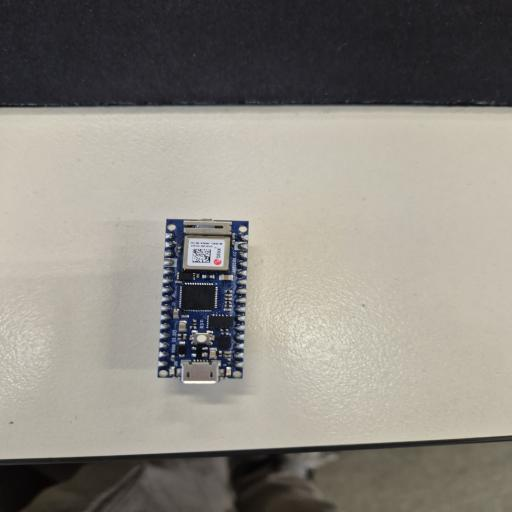arduino-nano-iot-33: (159, 219, 248, 383)
